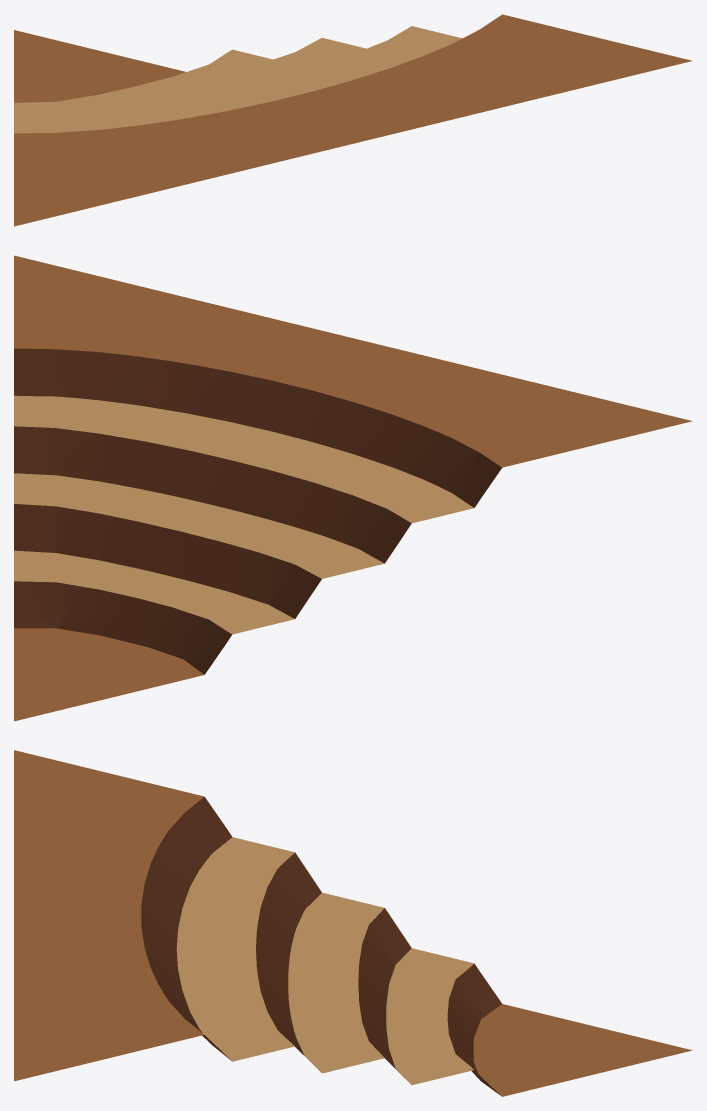
File: MODULE_STEPWELL_RAMP_SIDE.fbx
3 views of the same model, one above another, from view 1: azimuth 30°, elevation 25°; view 2: azimuth 150°, elevation 25°; view 3: azimuth 270°, elevation 25° (orthographic).
Parts seen in each view (by area): view 1: MODULE_STEPWELL_RAMP_SIDE__export; view 2: MODULE_STEPWELL_RAMP_SIDE__export; view 3: MODULE_STEPWELL_RAMP_SIDE__export.
Boxes of the visible parts, x1=… form: MODULE_STEPWELL_RAMP_SIDE__export: x1=14, y1=14, x2=692, y2=226; MODULE_STEPWELL_RAMP_SIDE__export: x1=14, y1=255, x2=692, y2=721; MODULE_STEPWELL_RAMP_SIDE__export: x1=14, y1=750, x2=692, y2=1096.
Size of the model in its own units: 100 by 18.95 by 86.6.
